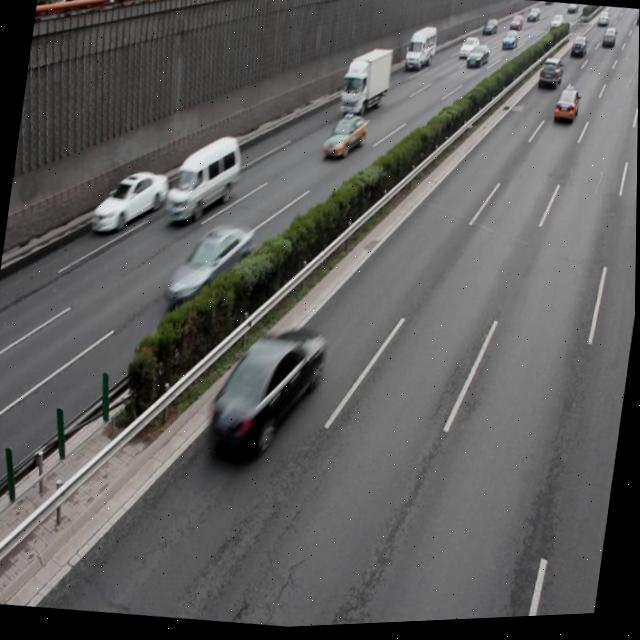bus: (338, 46, 393, 123)
car: (205, 318, 331, 467), (164, 218, 255, 316), (90, 162, 173, 245), (321, 112, 370, 163), (551, 88, 579, 129)
truck: (163, 130, 246, 231)
